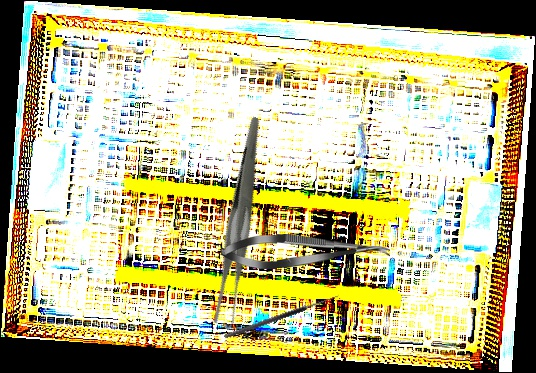Dressing Forceps: (161, 116, 323, 331)
Hook Surgical: (221, 287, 341, 340)
Micro Scissor: (220, 232, 391, 270)
